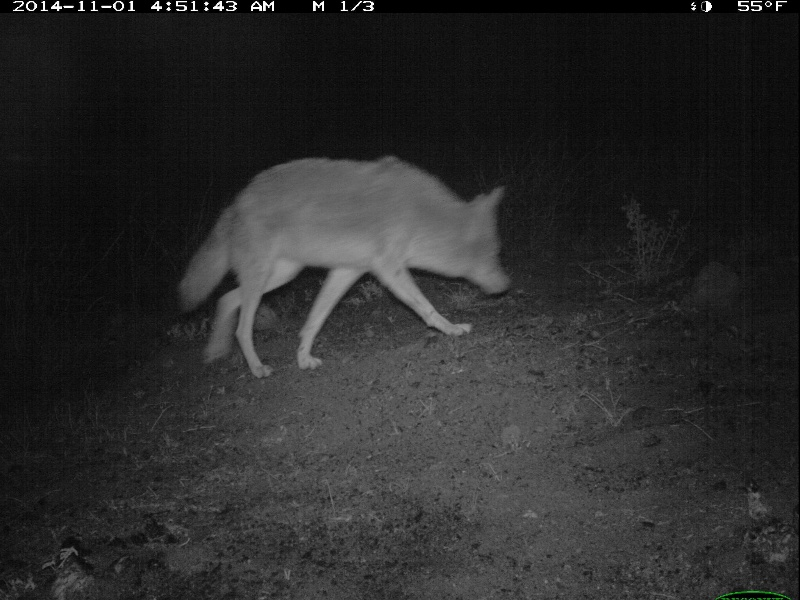coyote: (173, 155, 512, 385)
